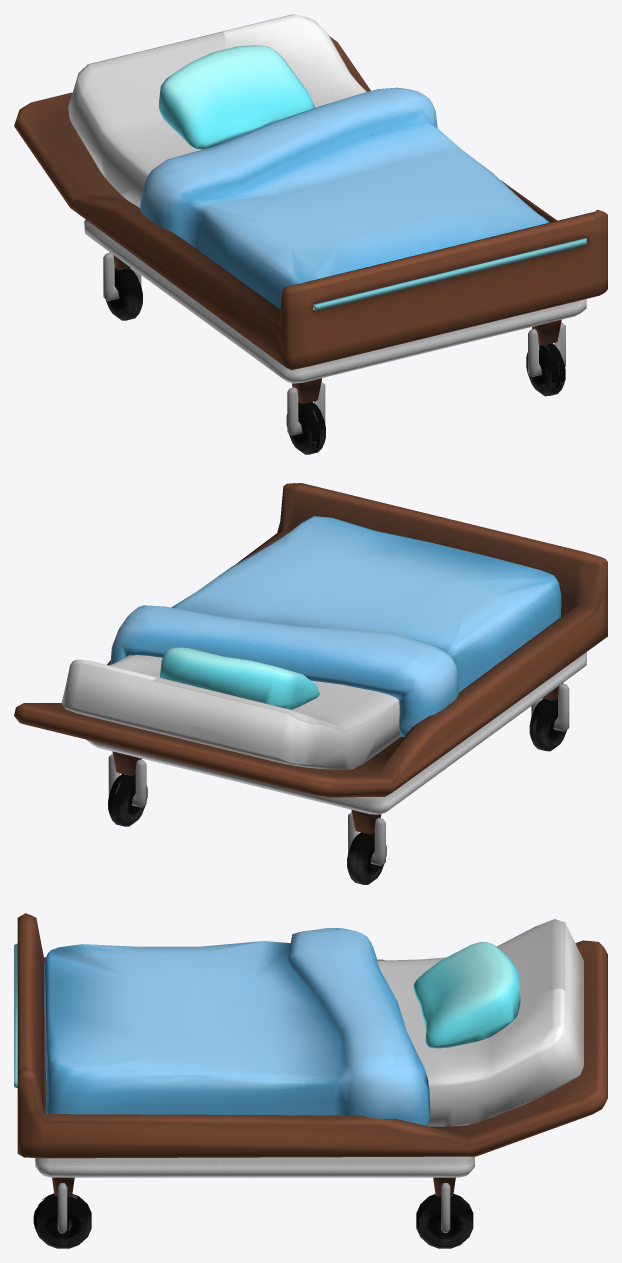
Rendered from hospital bed.fbx.
The picture shows the model from 3 angles, top to bottom: view 1: azimuth 30°, elevation 25°; view 2: azimuth 150°, elevation 25°; view 3: azimuth 270°, elevation 25°; orthographic projection. The views are drawn at different scales.
Visible parts, largest first — view 1: Cube.019, Cube.002, Cube.021, Cube.001, Cube.007, Cube.020, Cube.014, Cube.016, Cube.012, Cube.017, Cube.011, Cube.010; view 2: Cube.019, Cube.002, Cube.021, Cube.001, Cube.007, Cube.018, Cube.014, Cube.016, Cube.013, Cube.010, Cube.017; view 3: Cube.019, Cube.002, Cube.021, Cube.007, Cube.001, Cube.018, Cube.012, Cube.020, Cube.011, Cube.013.
Boxes of the visible parts, left/top/right/bottom form: Cube.019: left=140, top=87, right=549, bottom=309; Cube.002: left=14, top=36, right=607, bottom=370; Cube.021: left=68, top=14, right=366, bottom=207; Cube.001: left=159, top=45, right=314, bottom=149; Cube.007: left=84, top=220, right=586, bottom=383; Cube.020: left=313, top=238, right=586, bottom=310; Cube.014: left=286, top=402, right=325, bottom=454; Cube.016: left=105, top=268, right=142, bottom=320; Cube.012: left=526, top=347, right=565, bottom=396; Cube.017: left=287, top=381, right=325, bottom=435; Cube.011: left=528, top=322, right=565, bottom=376; Cube.010: left=103, top=252, right=141, bottom=300; Cube.019: left=110, top=516, right=561, bottom=736; Cube.002: left=14, top=483, right=607, bottom=797; Cube.021: left=61, top=655, right=400, bottom=769; Cube.001: left=160, top=647, right=319, bottom=709; Cube.007: left=86, top=652, right=586, bottom=814; Cube.018: left=108, top=774, right=147, bottom=826; Cube.014: left=529, top=699, right=566, bottom=751; Cube.016: left=347, top=832, right=386, bottom=884; Cube.013: left=108, top=753, right=146, bottom=807; Cube.010: left=348, top=812, right=385, bottom=865; Cube.017: left=531, top=683, right=569, bottom=731; Cube.019: left=44, top=928, right=430, bottom=1126; Cube.002: left=17, top=913, right=607, bottom=1158; Cube.021: left=377, top=919, right=583, bottom=1126; Cube.007: left=35, top=1156, right=474, bottom=1177; Cube.001: left=413, top=941, right=520, bottom=1048; Cube.018: left=416, top=1194, right=473, bottom=1248; Cube.012: left=34, top=1194, right=91, bottom=1248; Cube.020: left=14, top=943, right=17, bottom=1087; Cube.011: left=57, top=1183, right=67, bottom=1233; Cube.013: left=441, top=1183, right=450, bottom=1232.
Size of the model in its own units: 355 by 226 by 545.
